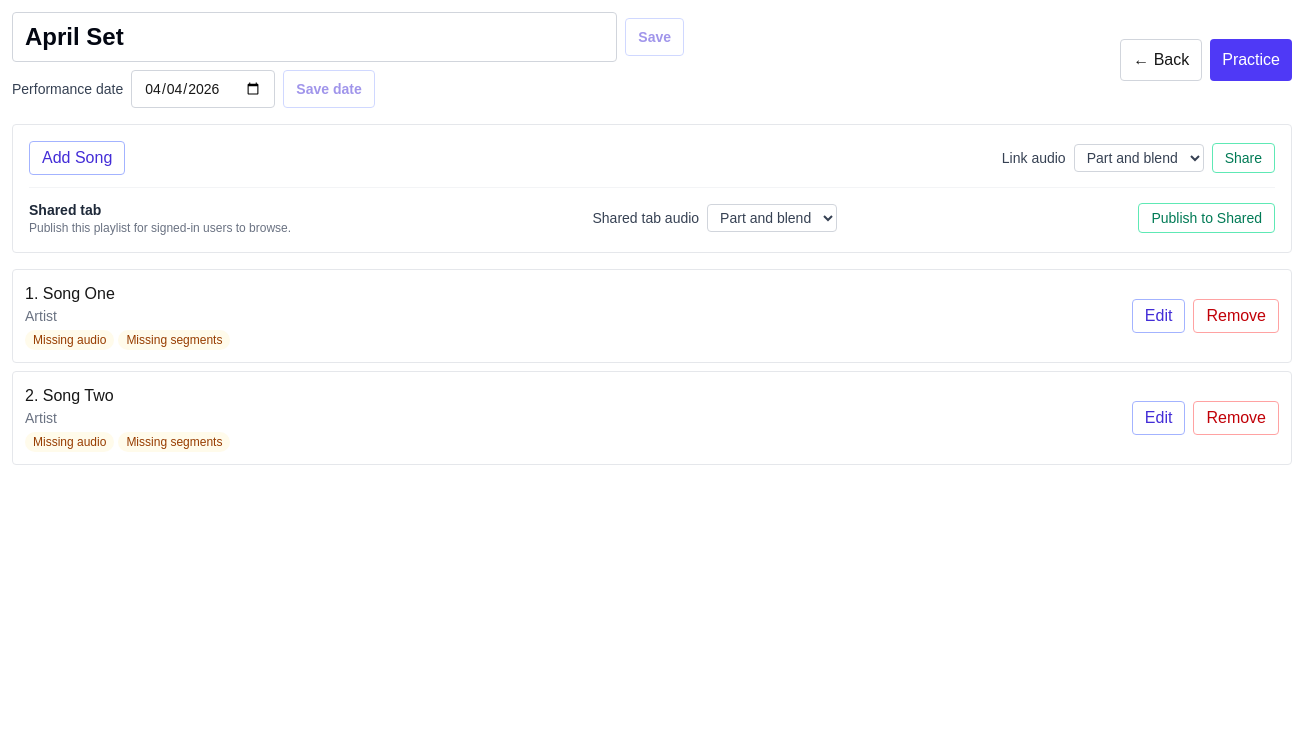
Test: PlaylistDetail › pressing escape in song search closes the picker
Click the button with test id "playlist-add-song": click(77, 158) [29, 141, 125, 175]
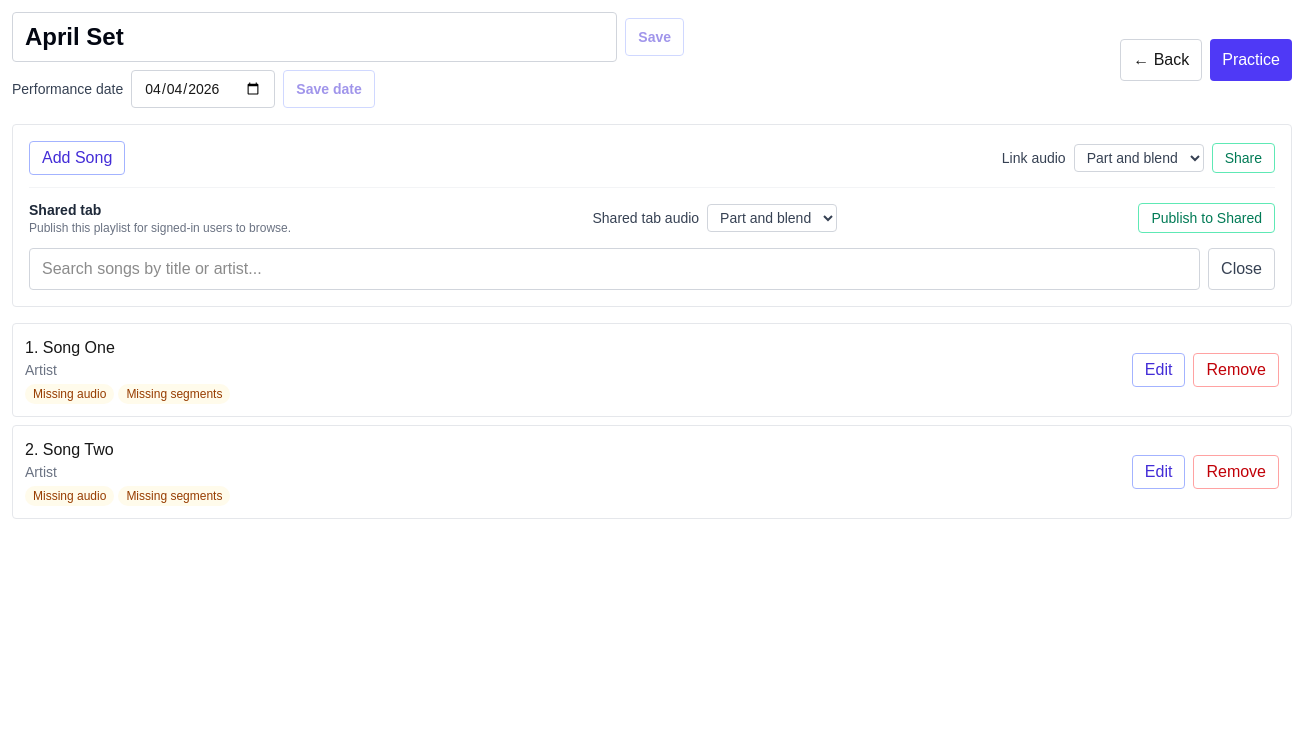
Press Escape in the field with test id "playlist-song-search", box [29, 248, 1200, 290]
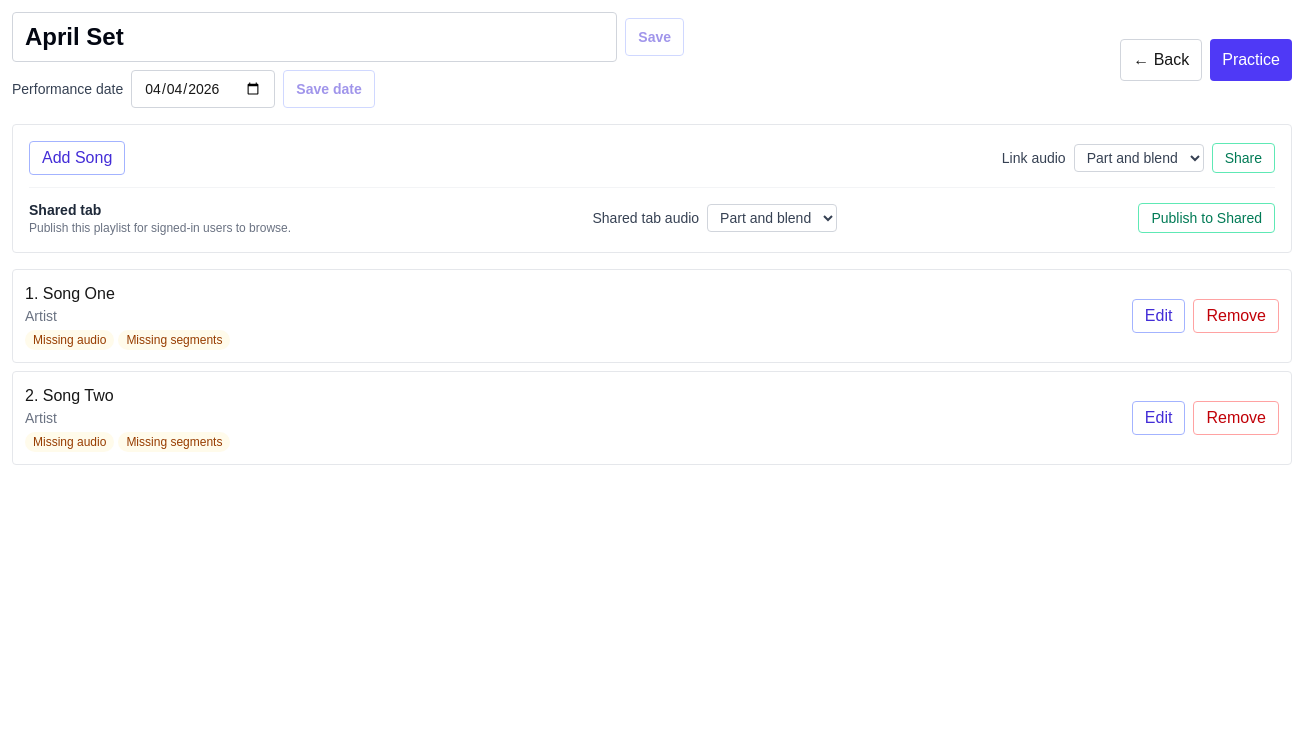
Now the field with test id "playlist-song-search" is gone
